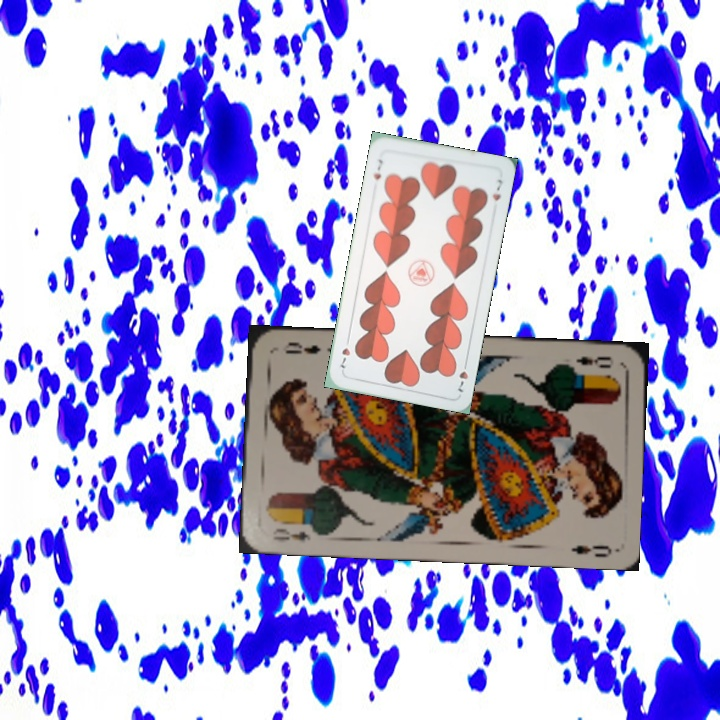EO: (562, 352, 614, 373), (268, 524, 313, 543)
H7: (454, 356, 471, 395), (369, 155, 386, 182)
